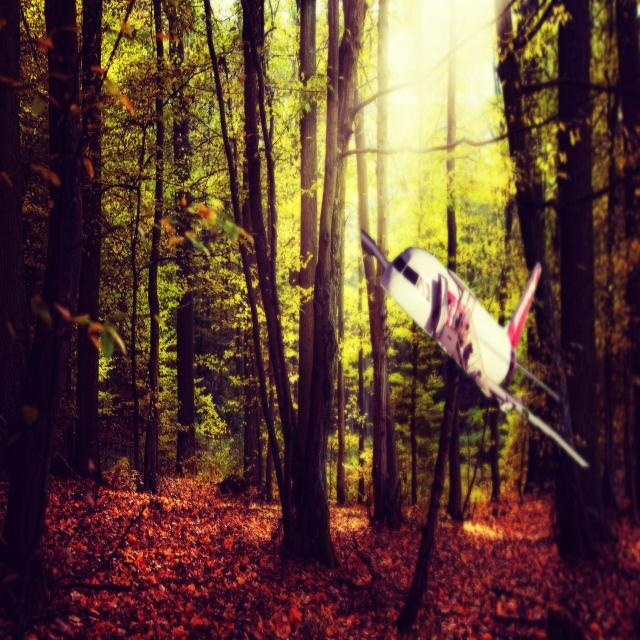airplane: (360, 227, 590, 469)
